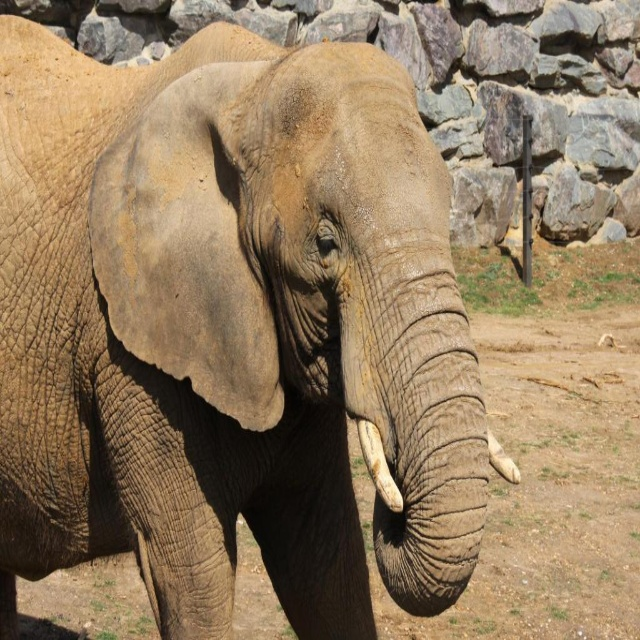Elephant: (0, 15, 521, 639)
